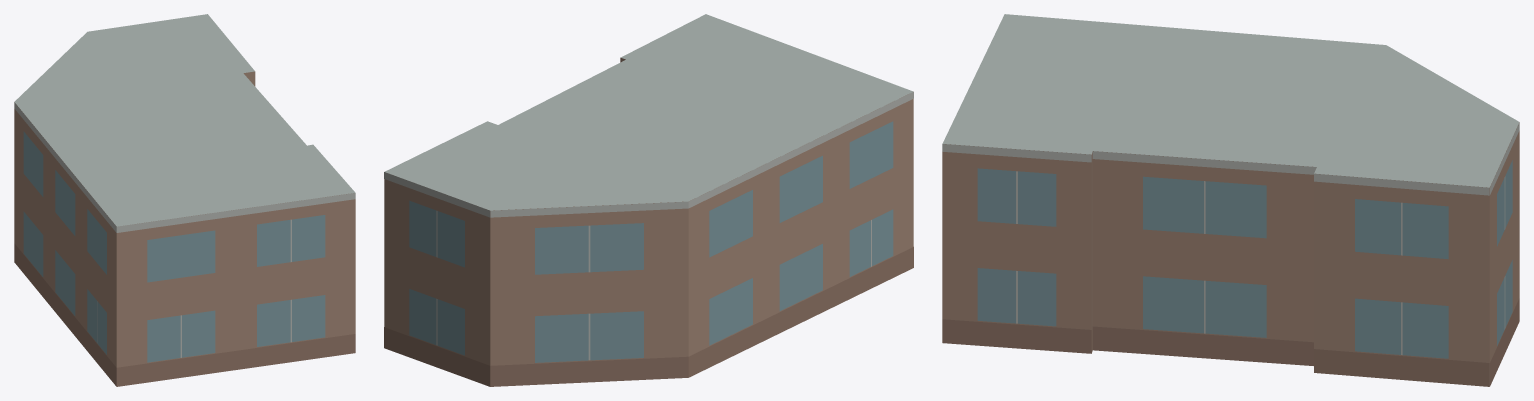
Rendered from survey-upis-32792204.glb.
The picture shows the model from 3 angles, left to right: view 1: azimuth 30°, elevation 25°; view 2: azimuth 150°, elevation 25°; view 3: azimuth 270°, elevation 25°; orthographic projection. The views are drawn at different scales.
Visible parts, largest first — view 1: survey-upis-32792204.tmp; view 2: survey-upis-32792204.tmp; view 3: survey-upis-32792204.tmp.
Boxes of the visible parts, <box> form: survey-upis-32792204.tmp: <box>14,14,355,386</box>; survey-upis-32792204.tmp: <box>384,14,913,386</box>; survey-upis-32792204.tmp: <box>942,14,1519,386</box>.
Size of the model in its own units: 11.41 by 6.1 by 16.03.
